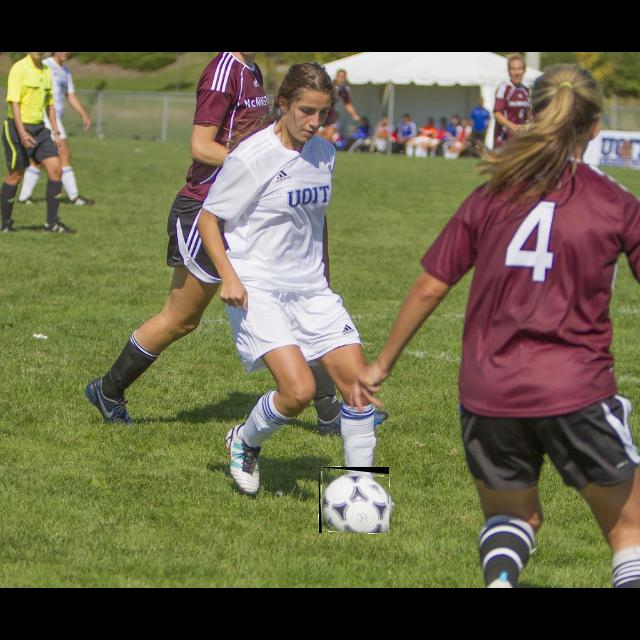Football: (319, 467, 389, 533)
